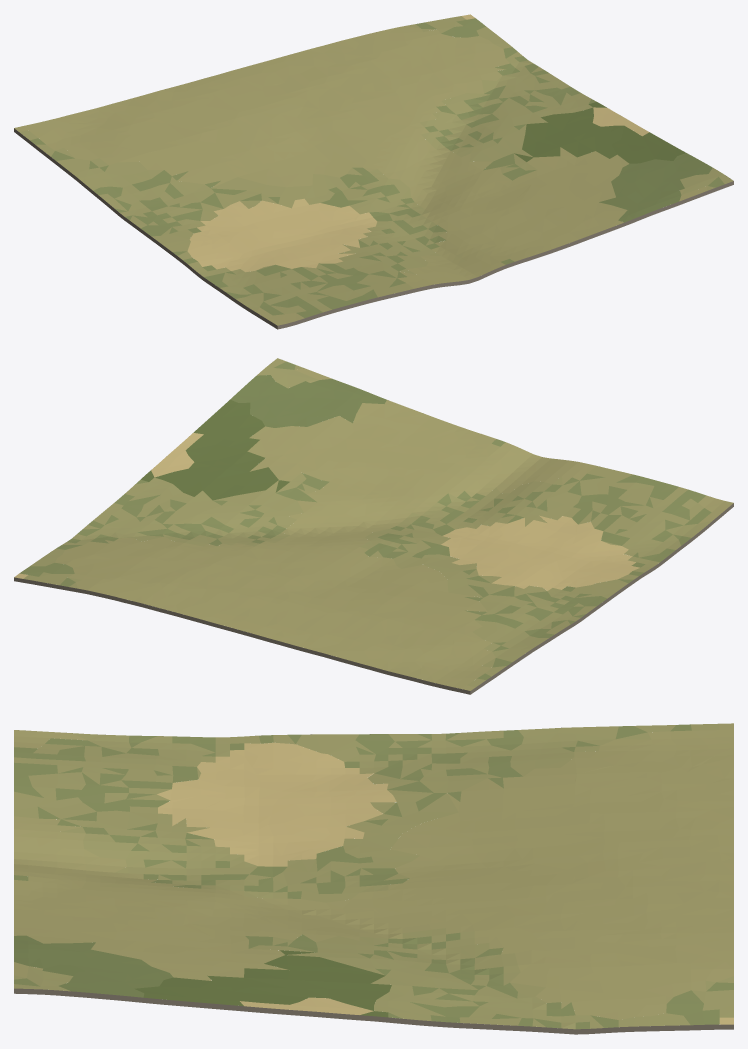
The model's file is parca_+2_-1-uzak.glb.
3 views of the same model, one above another, from view 1: azimuth 30°, elevation 25°; view 2: azimuth 150°, elevation 25°; view 3: azimuth 270°, elevation 25° (orthographic). The views are drawn at different scales.
Parts seen in each view (by area): view 1: parca_+2_-1_arazi_uzak; view 2: parca_+2_-1_arazi_uzak; view 3: parca_+2_-1_arazi_uzak.
Part boxes in pixels (box(x1,y1,x2,y2)): parca_+2_-1_arazi_uzak: box(14, 14, 733, 329); parca_+2_-1_arazi_uzak: box(14, 358, 733, 694); parca_+2_-1_arazi_uzak: box(14, 723, 733, 1034).
Size of the model in its own units: 1000 by 89.43 by 1000.
